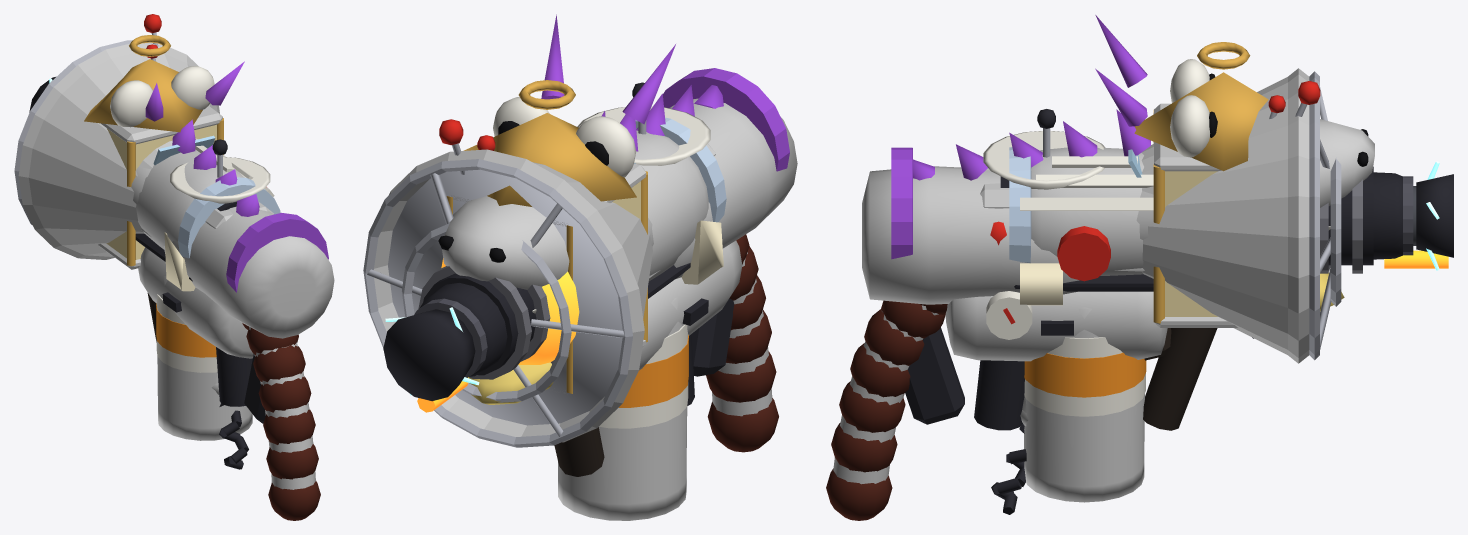
Rendered from tools.glb.
3 views of the same model, side by side, from view 1: azimuth 30°, elevation 25°; view 2: azimuth 150°, elevation 25°; view 3: azimuth 270°, elevation 25° (orthographic). The views are drawn at different scales.
Visible parts, largest first — view 1: Tool1, Tool6, Tool4, Tool2, Tool9, Tool3, Tool0, Tool10, Tool5, Tool8; view 2: Tool1, Tool6, Tool3, Tool2, Tool9, Tool0, Tool4, Tool10, Tool5, Tool8; view 3: Tool1, Tool6, Tool3, Tool2, Tool9, Tool4, Tool0, Tool10, Tool5, Tool8.
Boxes of the visible parts, bbox=[...] form: Tool1: bbox=[14, 40, 273, 406]; Tool6: bbox=[110, 61, 334, 338]; Tool4: bbox=[242, 323, 320, 520]; Tool2: bbox=[156, 275, 252, 440]; Tool9: bbox=[84, 35, 223, 342]; Tool3: bbox=[29, 77, 265, 423]; Tool0: bbox=[136, 149, 248, 469]; Tool10: bbox=[164, 145, 280, 291]; Tool5: bbox=[146, 44, 270, 203]; Tool8: bbox=[135, 14, 215, 281]; Tool1: bbox=[363, 143, 715, 447]; Tool6: bbox=[438, 14, 797, 404]; Tool3: bbox=[383, 240, 742, 412]; Tool2: bbox=[557, 297, 688, 520]; Tool9: bbox=[446, 80, 647, 476]; Tool0: bbox=[414, 130, 708, 377]; Tool4: bbox=[706, 234, 778, 452]; Tool10: bbox=[635, 117, 726, 284]; Tool5: bbox=[477, 82, 710, 165]; Tool8: bbox=[439, 119, 690, 298]; Tool1: bbox=[974, 68, 1341, 430]; Tool6: bbox=[862, 15, 1374, 311]; Tool3: bbox=[905, 167, 1453, 424]; Tool2: bbox=[1024, 226, 1146, 502]; Tool9: bbox=[1134, 42, 1268, 430]; Tool4: bbox=[826, 300, 1171, 520]; Tool0: bbox=[991, 147, 1413, 514]; Tool10: bbox=[1009, 147, 1153, 305]; Tool5: bbox=[983, 95, 1285, 189]; Tool8: bbox=[1014, 81, 1320, 291].
Size of the model in its own units: 0.276 by 0.491 by 0.586.
